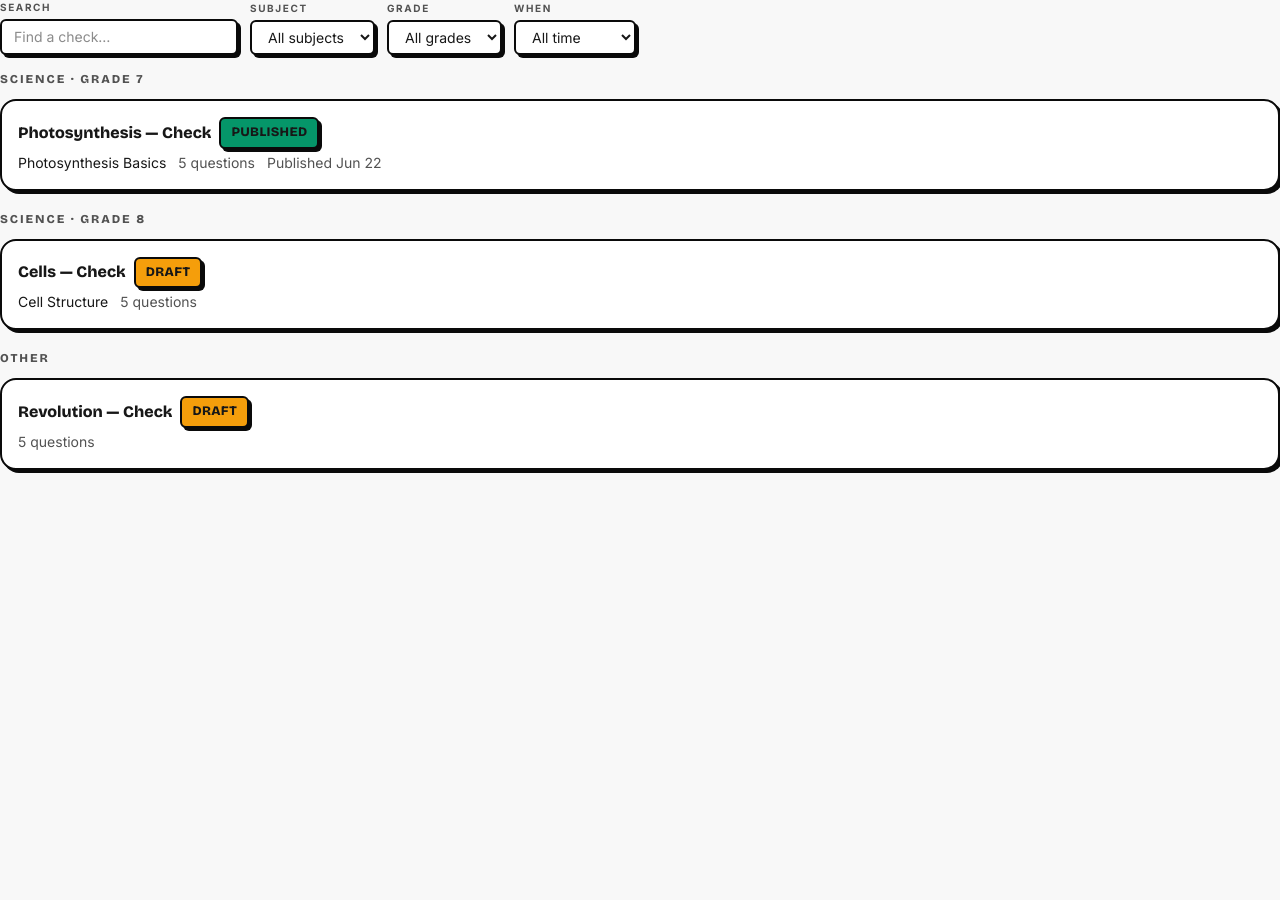
Scenario: QuizLibrary › clicking a row opens the edit/detail dialog
Click the button "Cells — Check Draft Cell Structure 5 questions" at (72, 272), box [0,238,1279,330]
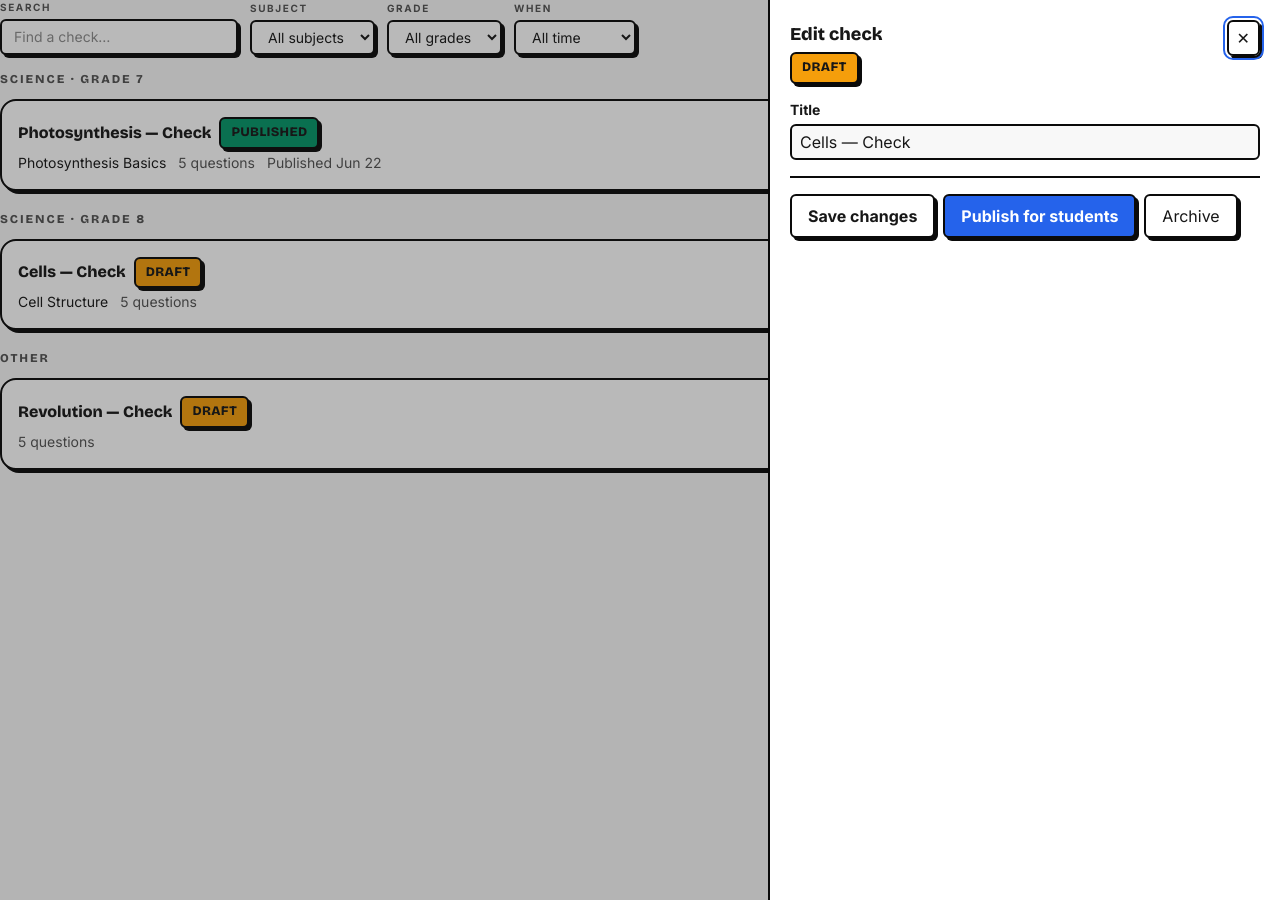
Expected: the dialog is shown, [768,0,1279,899]
